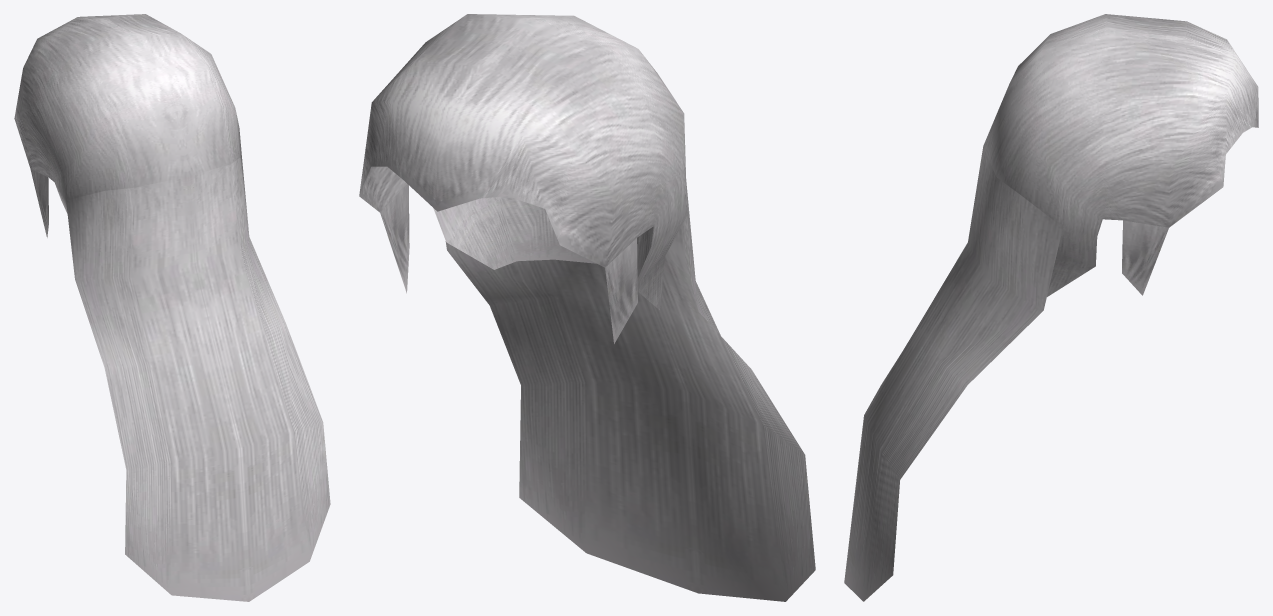
File: Martial arts male hair 10.glb
The picture shows the model from 3 angles, left to right: view 1: azimuth 30°, elevation 25°; view 2: azimuth 150°, elevation 25°; view 3: azimuth 270°, elevation 25°; orthographic projection. The views are drawn at different scales.
Parts seen in each view (by area): view 1: 武侠男头发10_0; view 2: 武侠男头发10_0; view 3: 武侠男头发10_0.
Part boxes in pixels (left/top/right/bottom): 武侠男头发10_0: left=14, top=14, right=330, bottom=601; 武侠男头发10_0: left=359, top=14, right=815, bottom=601; 武侠男头发10_0: left=844, top=14, right=1258, bottom=601.
Bounding box in the file's own units: 0.1937 × 0.4338 × 0.2952.
1 material, 1 textured.
